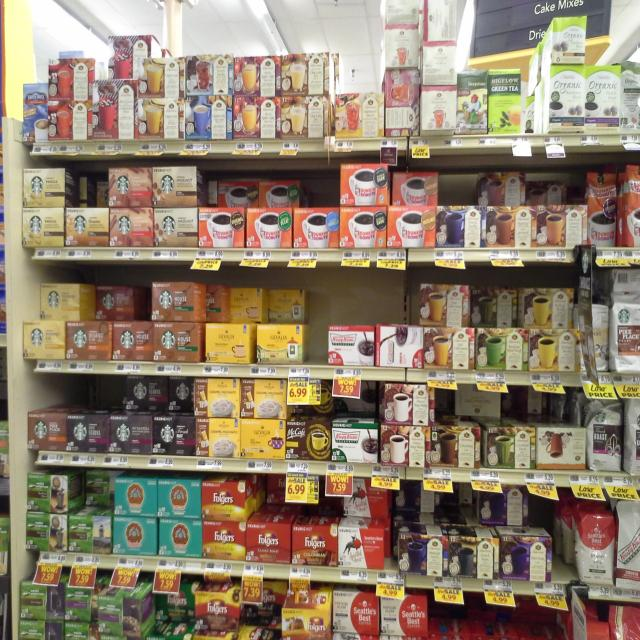unorganised: (202, 324, 302, 366), (206, 284, 306, 323), (207, 176, 301, 210), (121, 373, 193, 417), (424, 1, 457, 86), (419, 279, 471, 328), (521, 285, 576, 330), (151, 280, 206, 322), (471, 281, 518, 328), (388, 165, 440, 207), (375, 323, 422, 368), (103, 33, 146, 82), (479, 484, 527, 526), (342, 482, 389, 520), (38, 285, 85, 321), (154, 587, 195, 628), (480, 171, 526, 207), (394, 479, 441, 513), (337, 382, 379, 420), (455, 388, 500, 423), (78, 470, 114, 513), (525, 172, 572, 204), (94, 284, 135, 320), (247, 585, 279, 628), (75, 173, 109, 209), (317, 391, 331, 419)
